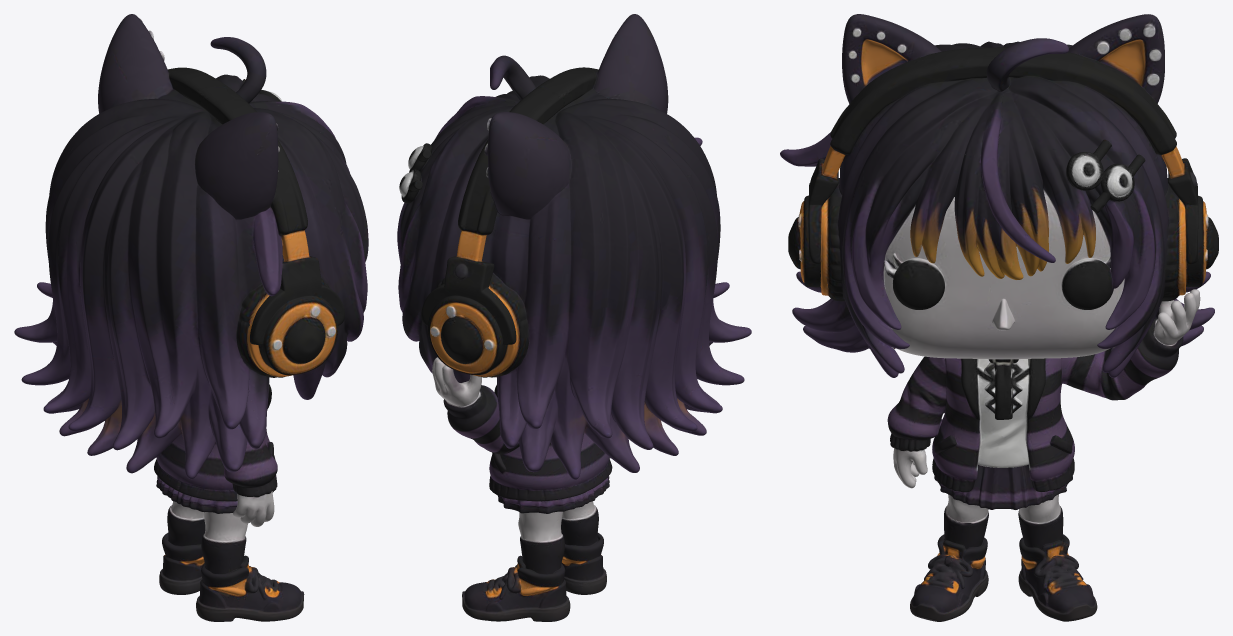
File: inspiration-415.glb
3 views of the same model, side by side, from view 1: azimuth 30°, elevation 25°; view 2: azimuth 150°, elevation 25°; view 3: azimuth 270°, elevation 25° (orthographic). The views are drawn at different scales.
Visible parts, largest first — view 1: tripo_node_394b4693-b965-42b0-ad30-0d12cea554c7; view 2: tripo_node_394b4693-b965-42b0-ad30-0d12cea554c7; view 3: tripo_node_394b4693-b965-42b0-ad30-0d12cea554c7.
Boxes of the visible parts, x1=… form: tripo_node_394b4693-b965-42b0-ad30-0d12cea554c7: x1=14, y1=14, x2=368, y2=621; tripo_node_394b4693-b965-42b0-ad30-0d12cea554c7: x1=397, y1=14, x2=751, y2=621; tripo_node_394b4693-b965-42b0-ad30-0d12cea554c7: x1=780, y1=14, x2=1218, y2=621.
Size of the model in its own units: 0.5513 by 1 by 0.6912.
1 material, 1 textured.
